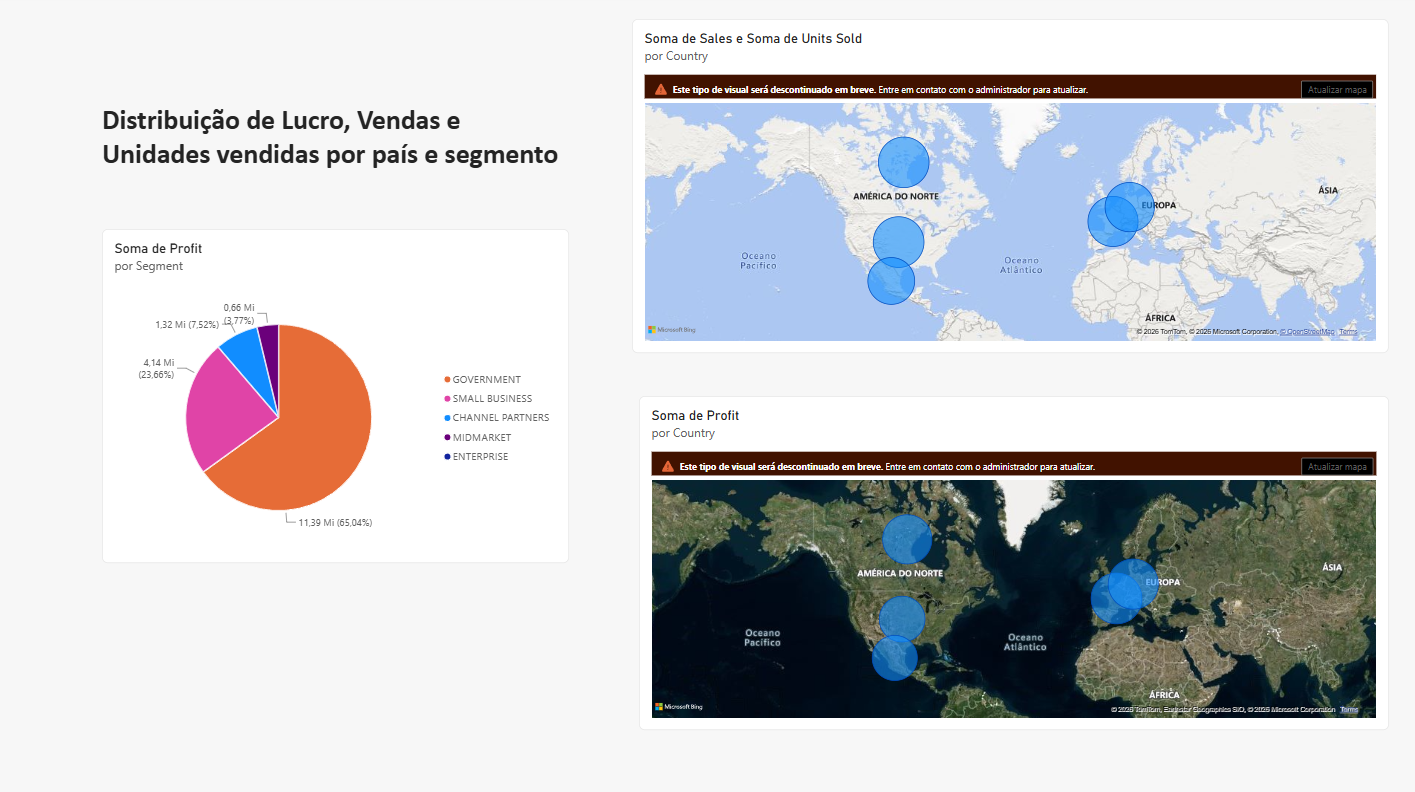

What the dashboard file says about the page in this screenshot:
{"tool":"powerbi","page":{"name":"Página 3","canvas":[1920,1080],"ordinal":2},"visuals":[{"type":"map","fields":{"Category":["financials.Country"],"Size":["Sum(financials. Sales)"]},"box":[853.8,32.3,1019.4,449.8],"z":0},{"type":"map","fields":{"Category":["financials.Country"],"Size":["Sum(financials.Profit)"]},"box":[863.2,540,1010,449.8],"z":1},{"type":"pieChart","fields":{"Category":["financials.Segment"],"Y":["Sum(financials.Profit)"]},"box":[140,315.1,628.9,449.8],"z":2},{"type":"textbox","box":[140,144.1,628.9,113.1],"z":3}]}

Visuals, with their boxes in screenshot pixels (x1, y1, x2, y2), scaled from the page's 1920x1080 canvas onto the 1415x792 screenshot:
map - financials.Country x Sum(financials. Sales): <box>629,24,1381,354</box>
map - financials.Country x Sum(financials.Profit): <box>636,396,1381,726</box>
pieChart - financials.Segment x Sum(financials.Profit): <box>103,231,567,561</box>
textbox: <box>103,106,567,189</box>
